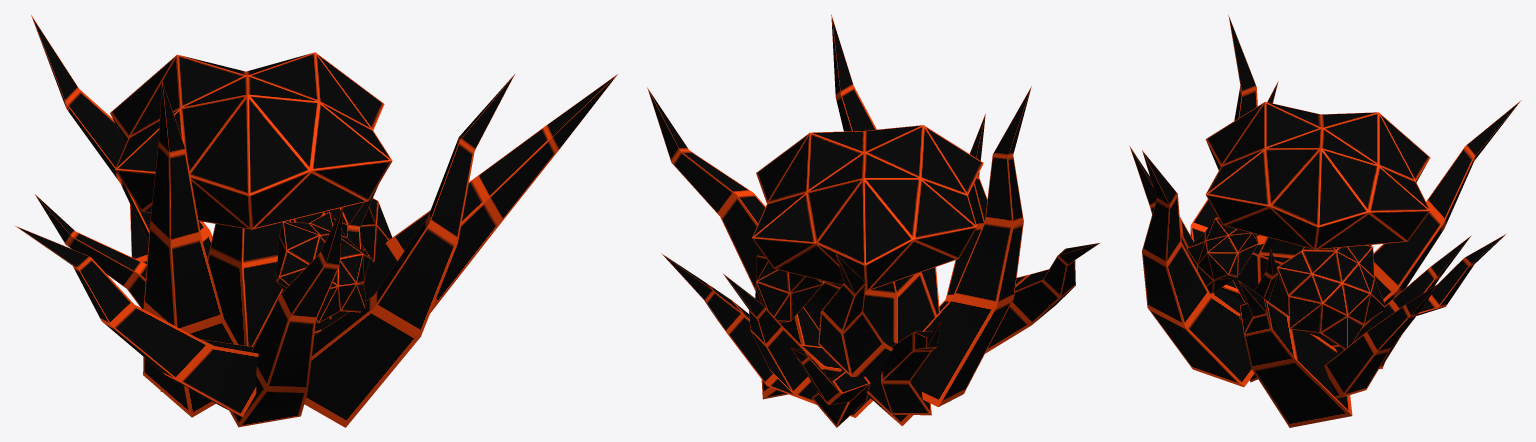
Rendered from Shroom.fbx.
3 renders of one model, left to right at view 1: azimuth 30°, elevation 25°; view 2: azimuth 150°, elevation 25°; view 3: azimuth 270°, elevation 25°, orthographic. The views are drawn at different scales.
Visible parts, largest first — view 1: polySurface18; view 2: polySurface18; view 3: polySurface18.
Boxes of the visible parts, <box> form: polySurface18: <box>15,15,617,427</box>; polySurface18: <box>647,14,1099,427</box>; polySurface18: <box>1129,15,1521,427</box>.
Bounding box in the file's own units: 5.81 × 3.88 × 4.31.
1 material, 1 textured.
